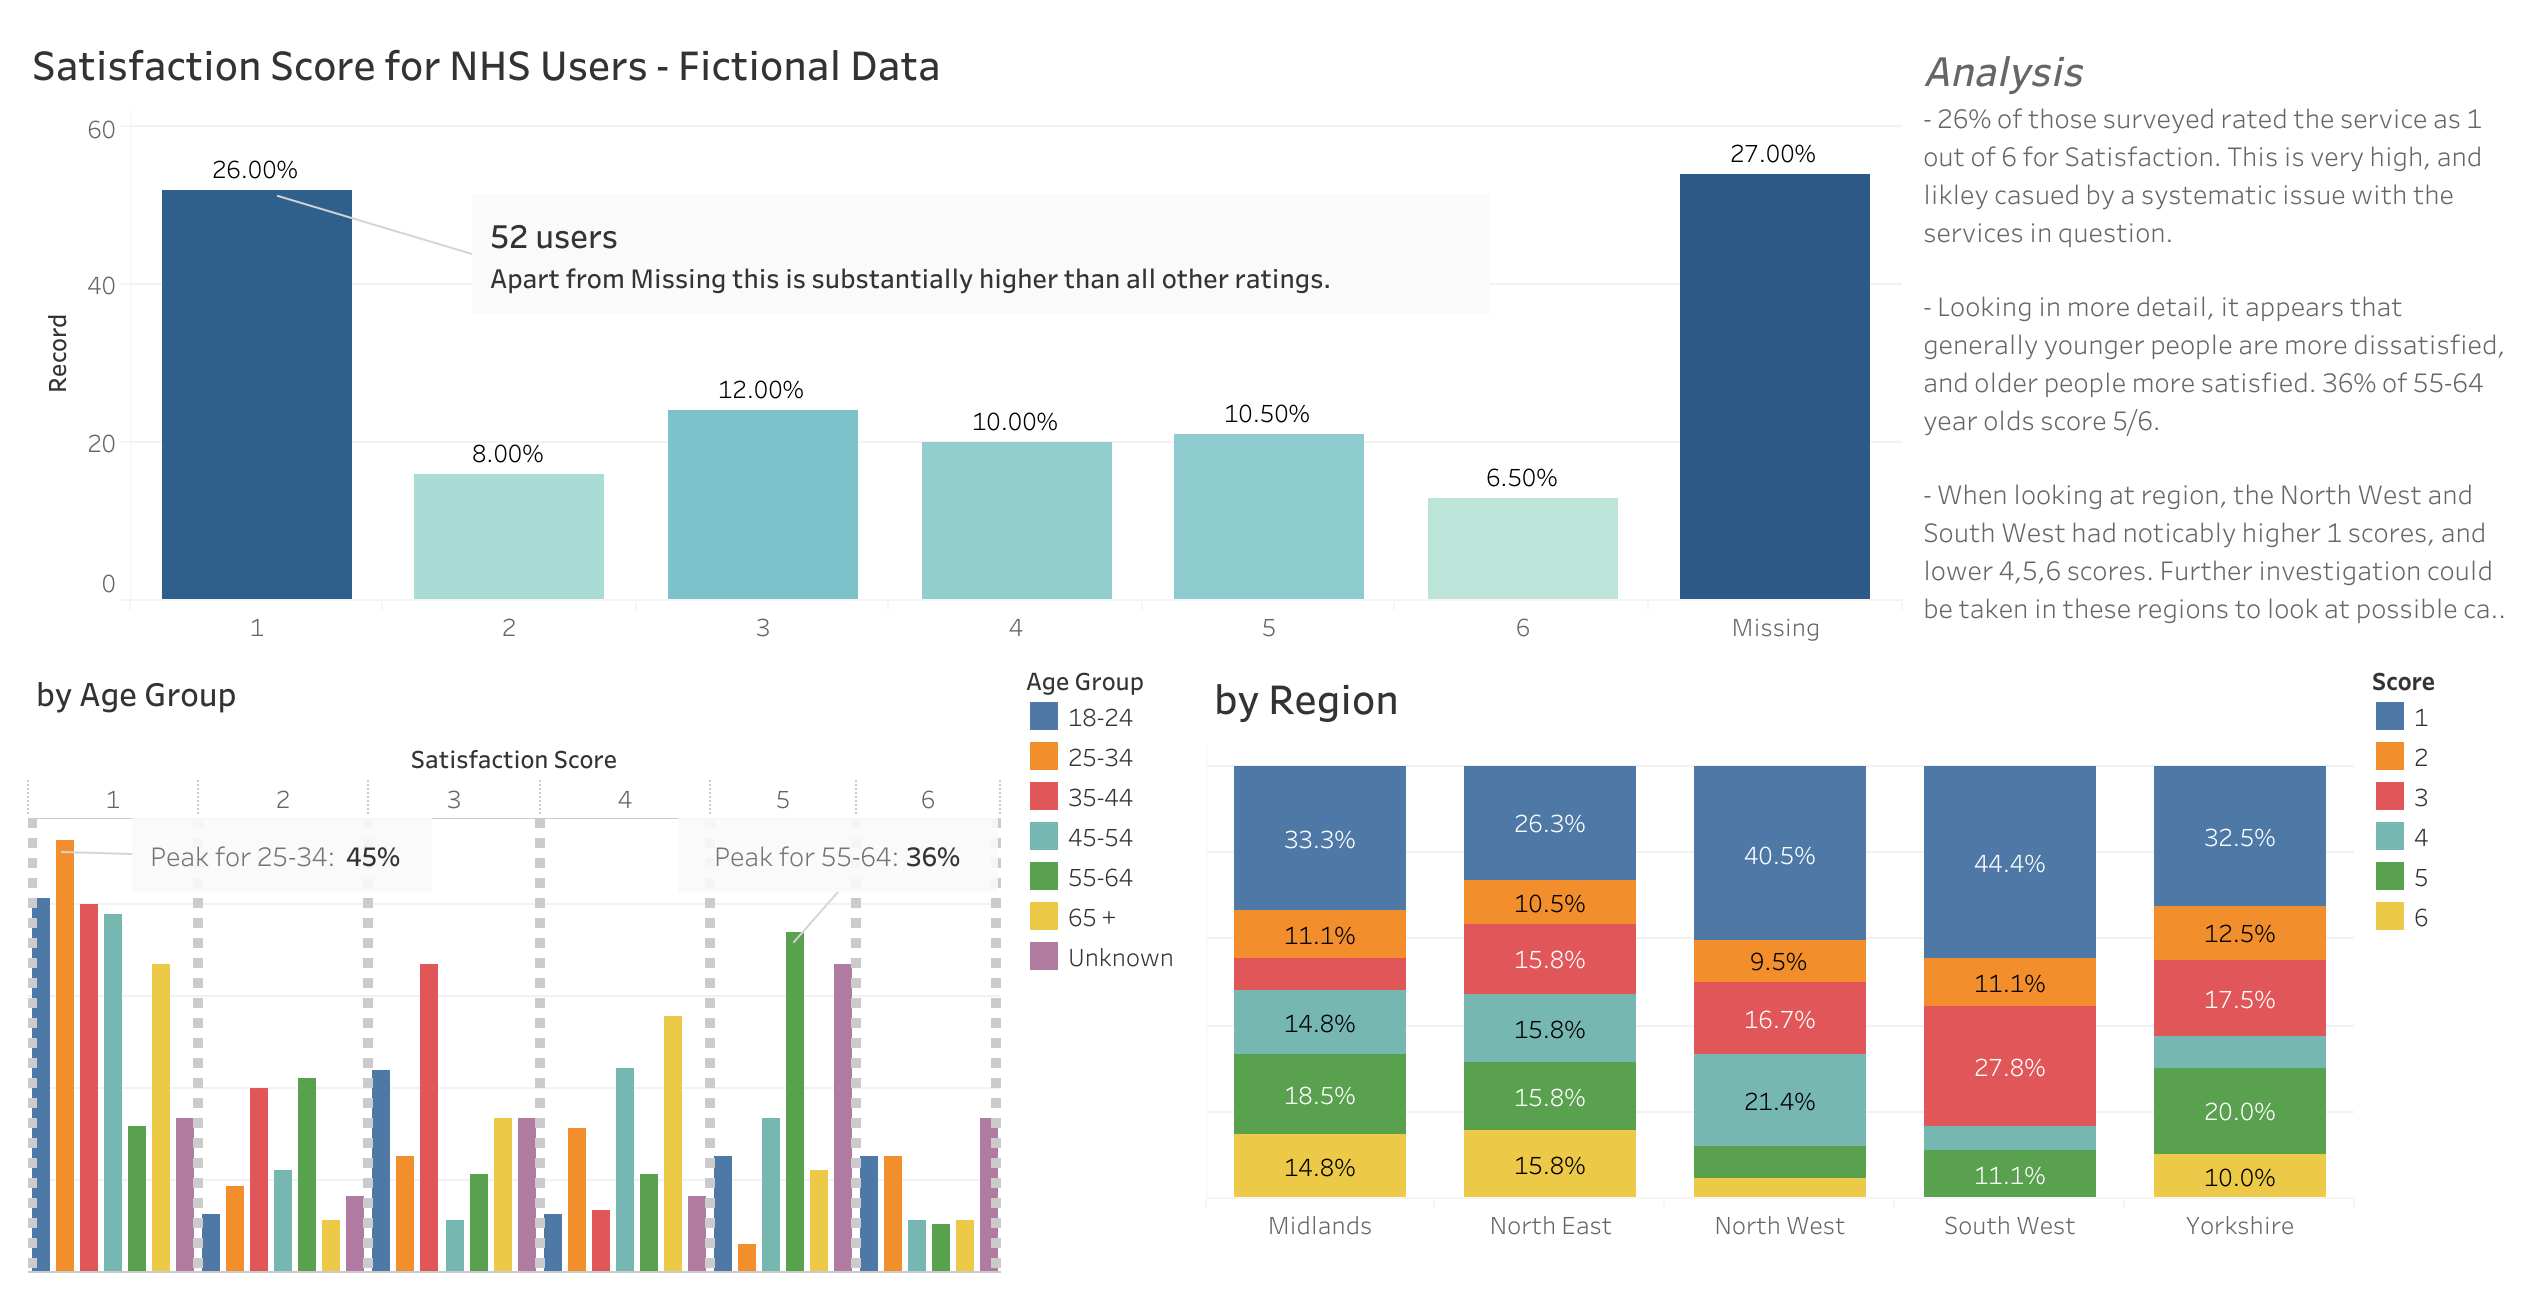

This screenshot's page, from the dashboard's own definition file:
{"tool":"tableau","page":{"name":"Satisfaction Score for NHS Users","canvas":[1000,1000],"units":"permille","ordinal":0},"visuals":[{"type":"worksheet","title":"Satisfaction Score","mark":"Automatic","rows":["Record"],"cols":["Satisfaction Score"],"box":[6.3,12.3,743.3,487.7]},{"type":"text","box":[749.6,12.3,244.1,487.7]},{"type":"worksheet","title":"Satisfaction Score by Age Group","mark":"Automatic","cols":["Satisfaction Score","Age Group"],"box":[6.3,500,392.4,487.7]},{"type":"legend","title":"Satisfaction Score by Age Group","param":"[federated.01xpotl18oclkc1dy4k1c0k4jirx].[none:Age Group:nk]","box":[398.7,500,71.4,487.7]},{"type":"worksheet","title":"Satisfaction Score by Region","mark":"Automatic","cols":["Region"],"box":[470.1,500,457.1,487.7]},{"type":"legend","title":"Satisfaction Score by Region","param":"[federated.01xpotl18oclkc1dy4k1c0k4jirx].[none:Satisfaction Score:nk]","box":[927.2,500,66.5,487.7]}]}

Visuals, with their boxes on the dashboard's canvas, which has no fixed pixel size, in thousandths of its width and height (x1, y1, x2, y2). These are canvas units, not pixel positions in the 2546x1300 screenshot, which may show the page scaled, cropped or inside an application window:
"Satisfaction Score" worksheet: [6, 12, 750, 500]
text: [750, 12, 994, 500]
"Satisfaction Score by Age Group" worksheet: [6, 500, 399, 988]
"Satisfaction Score by Age Group" legend: [399, 500, 470, 988]
"Satisfaction Score by Region" worksheet: [470, 500, 927, 988]
"Satisfaction Score by Region" legend: [927, 500, 994, 988]
